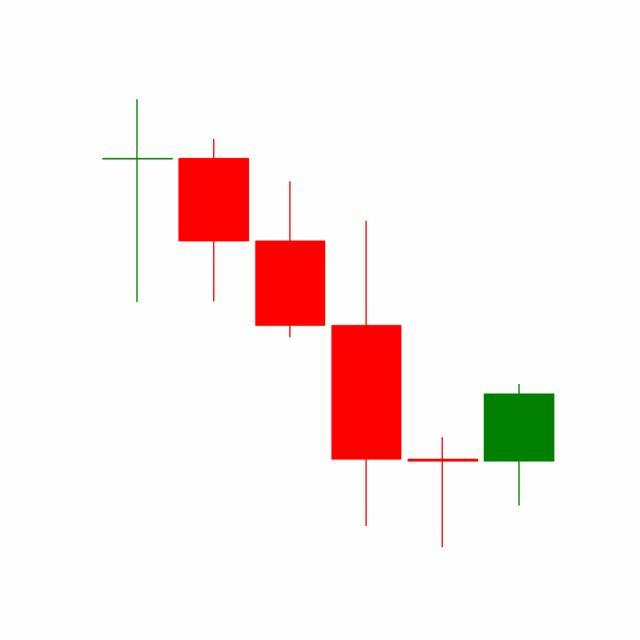Spinning Top: (404, 436, 482, 550)
